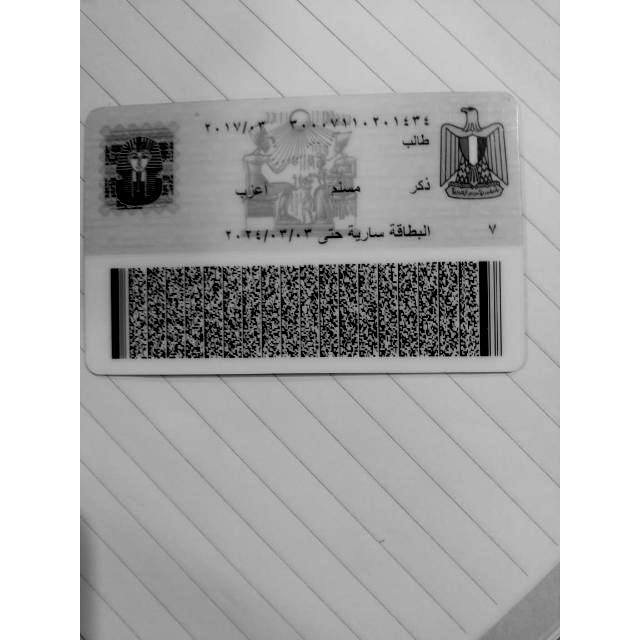id_card: (85, 92, 525, 375)
